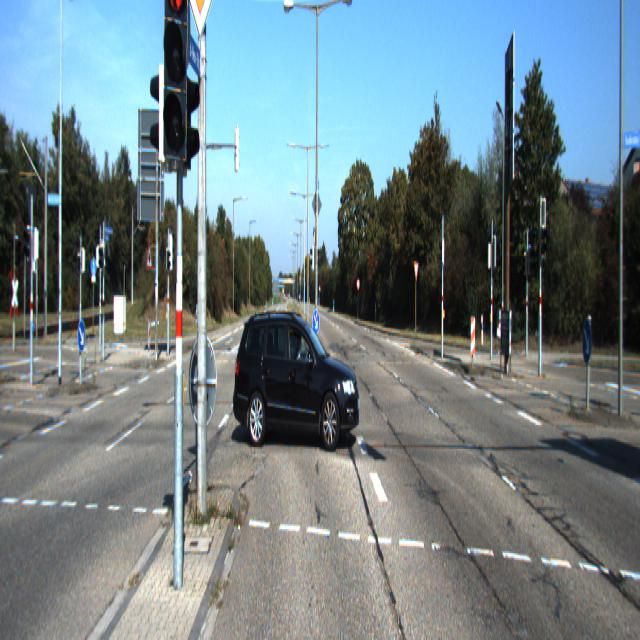Car: (232, 306, 362, 452)
